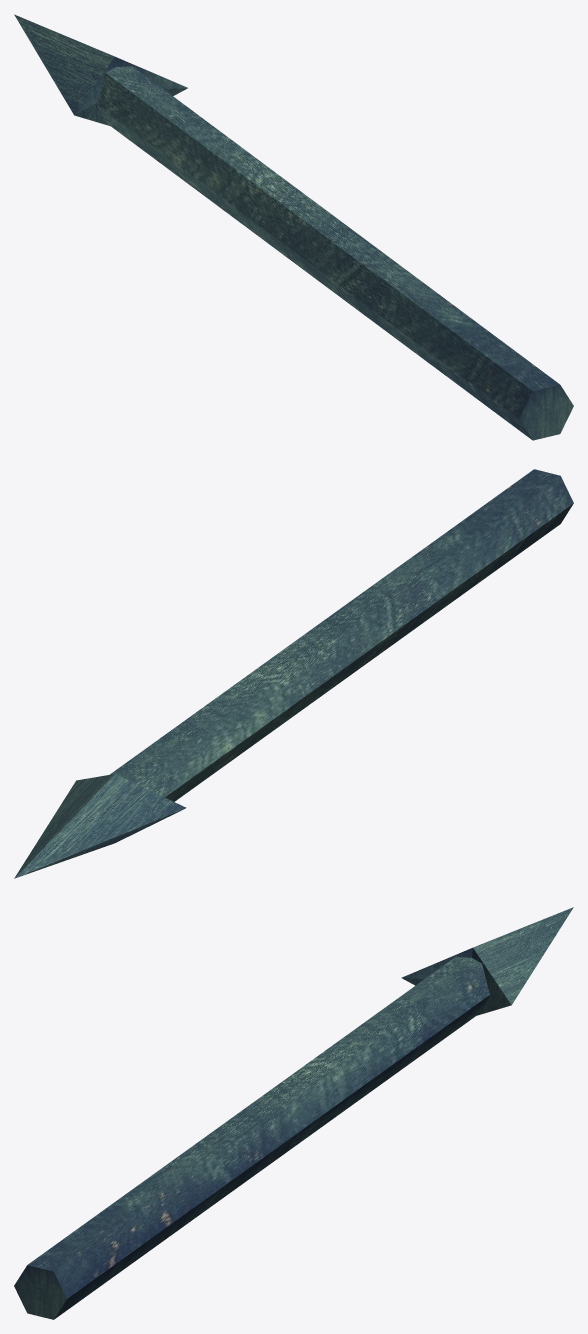
The model's file is Arrow.gltf.
The picture shows the model from 3 angles, top to bottom: view 1: azimuth 30°, elevation 25°; view 2: azimuth 150°, elevation 25°; view 3: azimuth 330°, elevation 25°; orthographic projection. The views are drawn at different scales.
Parts seen in each view (by area): view 1: syaft, 円錐; view 2: syaft, 円錐; view 3: syaft, 円錐.
Boxes of the visible parts, x1,y1,x2,y2 form: syaft: [97, 66, 573, 440]; 円錐: [14, 14, 187, 126]; syaft: [110, 469, 573, 801]; 円錐: [14, 774, 186, 878]; syaft: [14, 957, 489, 1319]; 円錐: [401, 907, 573, 1015].
Size of the model in its own units: 0.3127 by 0.1865 by 2.57.
Materials: 2 (2 with a texture image).
